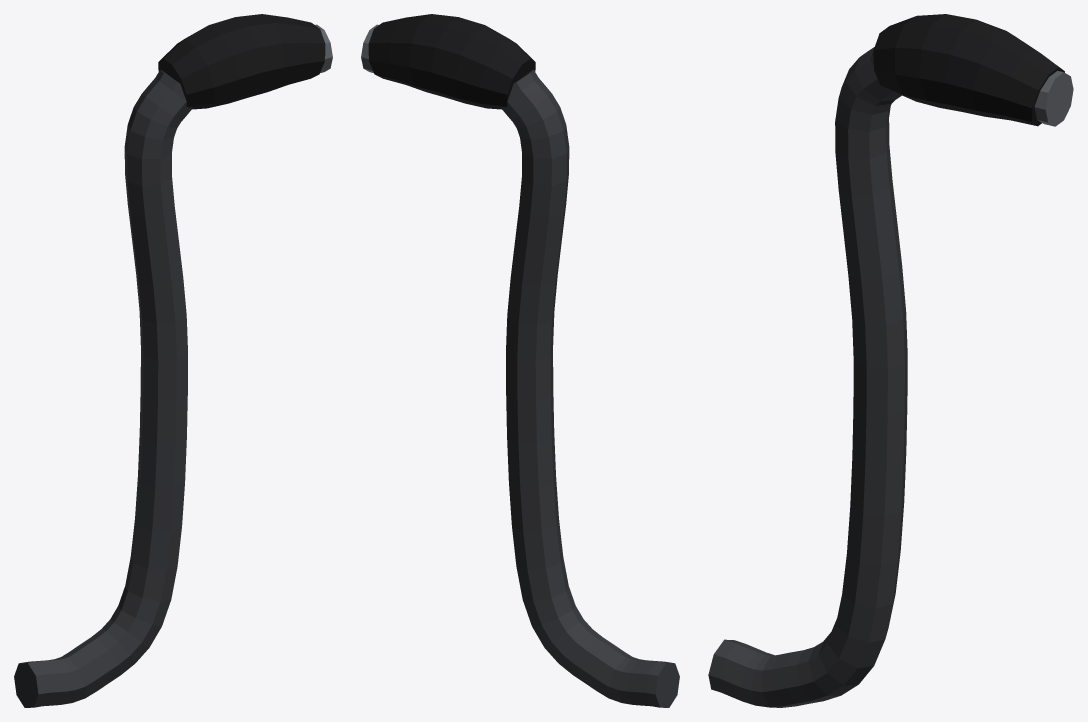
The model's file is MinidoracatTesla_CablePlugRoadster2.fbx.
3 views of the same model, side by side, from view 1: azimuth 30°, elevation 25°; view 2: azimuth 150°, elevation 25°; view 3: azimuth 330°, elevation 25° (orthographic). The views are drawn at different scales.
Parts seen in each view (by area): view 1: MinidoracatTesla_CablePlugRoadster2; view 2: MinidoracatTesla_CablePlugRoadster2; view 3: MinidoracatTesla_CablePlugRoadster2.
Part boxes in pixels (box(x1,y1,x2,y2)): MinidoracatTesla_CablePlugRoadster2: box(14, 14, 332, 707); MinidoracatTesla_CablePlugRoadster2: box(361, 14, 679, 707); MinidoracatTesla_CablePlugRoadster2: box(708, 14, 1073, 707).
Size of the model in its own units: 0.3639 by 0.7493 by 0.088.
